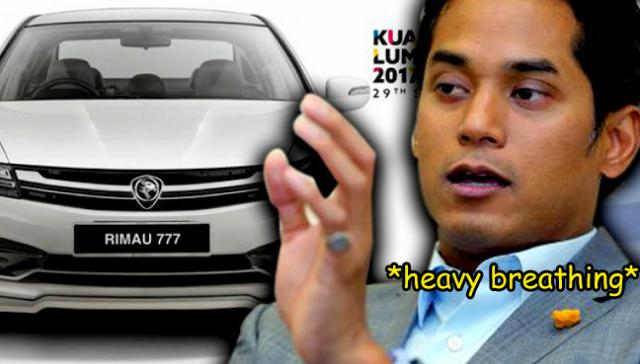License_Plate: (71, 224, 214, 259)
car: (2, 8, 341, 323)
